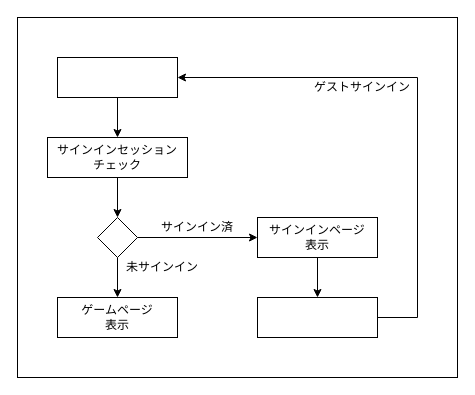
Some shapes in this 475 by 395 pixel diagram are drawn without their labels. The box of each missing label's shape, as (x1, y1, x2, y2) in pixels:
ゲームページ リクエスト: (56, 56, 178, 98)
サインインボタン クリック: (256, 296, 378, 338)
